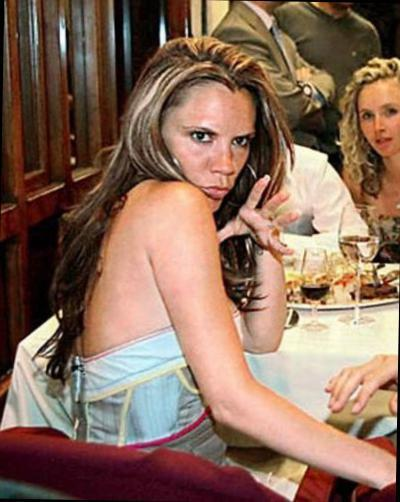Drunk: (169, 74, 257, 217)
